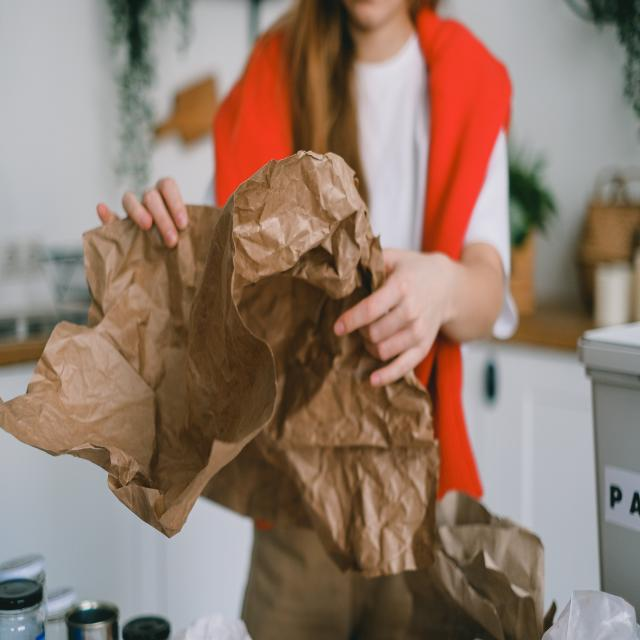paper: (197, 212, 327, 440), (87, 330, 167, 500)
